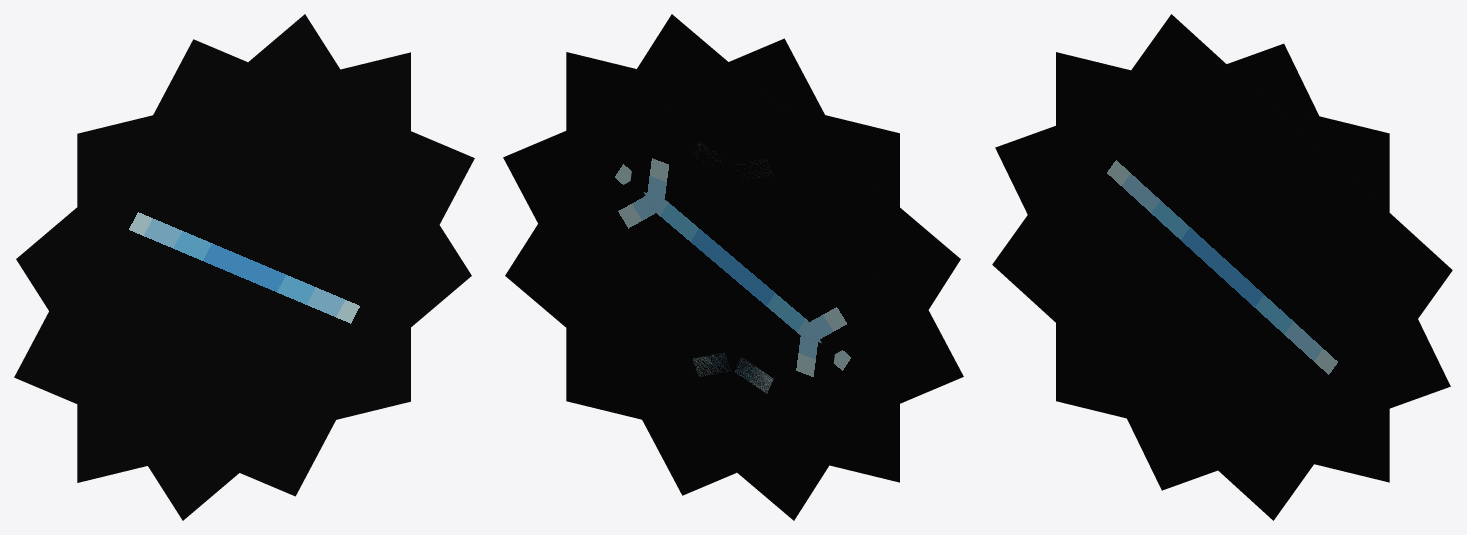
File: fx_snowflake.gltf
3 renders of one model, left to right at view 1: azimuth 30°, elevation 25°; view 2: azimuth 150°, elevation 25°; view 3: azimuth 330°, elevation 25°, orthographic.
Parts seen in each view (by area): view 1: cube (×3); view 2: cube (×10); view 3: cube (×3).
Part boxes in pixels (x1,y1,x2,y2): cube (×3): (14,14,474,520); cube (×10): (503,14,963,520); cube (×3): (992,14,1452,520).
Bounding box in the file's own units: 0.5411 × 0.5411 × 0.00161.
1 material, 1 textured.
